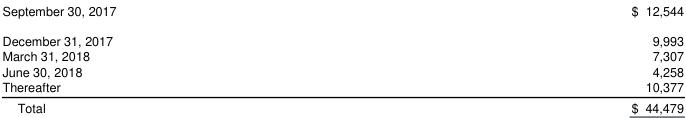table: (1, 1, 682, 115)
table column: (1, 1, 373, 115), (373, 1, 682, 115)
table row: (1, 1, 682, 24), (1, 24, 682, 47), (1, 96, 682, 115), (1, 78, 682, 96), (1, 47, 682, 63), (1, 63, 682, 78)
